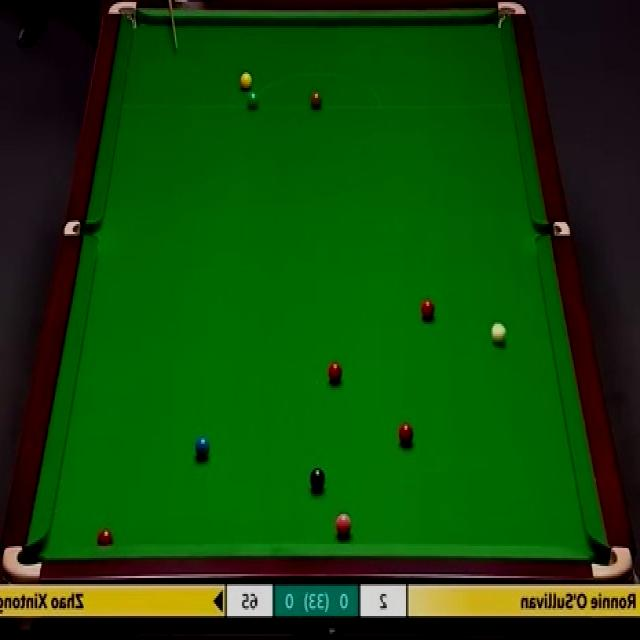pocket: (1, 543, 46, 582), (591, 543, 634, 582), (495, 0, 531, 34), (110, 0, 141, 32), (64, 218, 101, 238), (535, 220, 573, 235)
